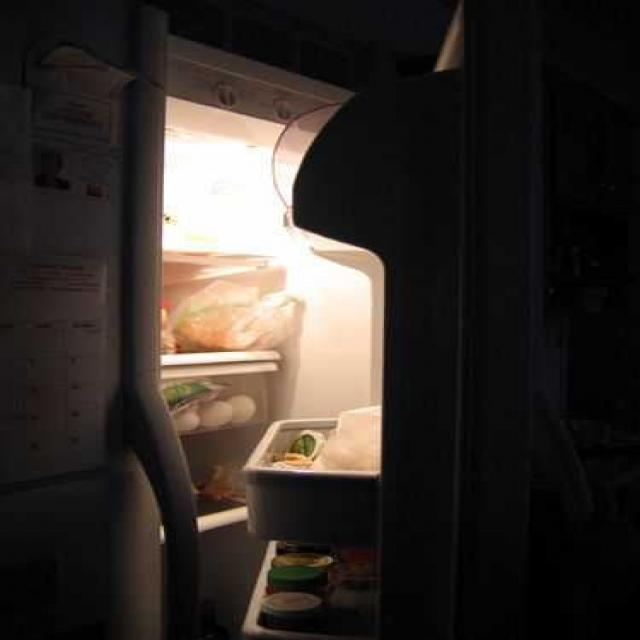refrigerator: (101, 4, 405, 640)
